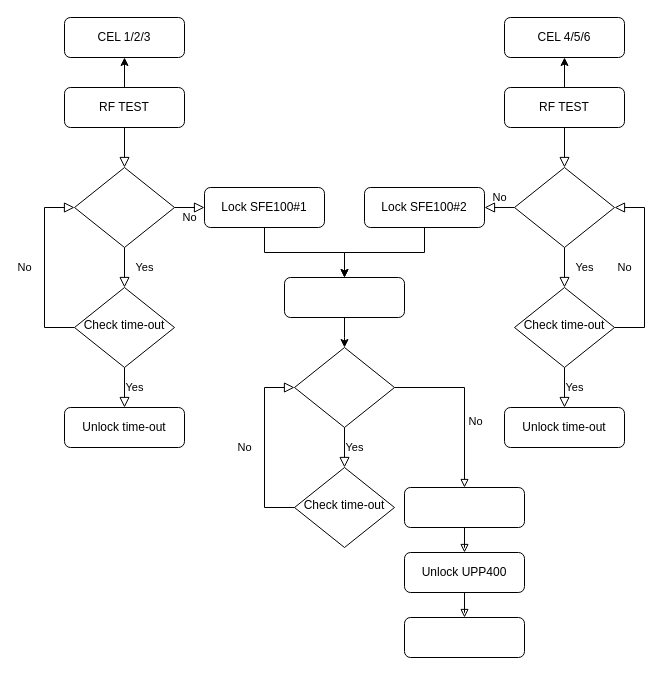
The diagram is 672 pixels wide and 675 high, and some of its shapes have lost their labels. Here are the shapes that lost their labels. From the top down, the centre of each, then its label:
At (124,207): "Chek Lock SFE100#1".
At (564,207): "Chek Lock SFE100#2".
At (344,297): "XSL BOX".
At (344,387): "Check Lock UPP400".
At (464,507): "Lock UPP400".
At (464,637): "Continue Testfile".
